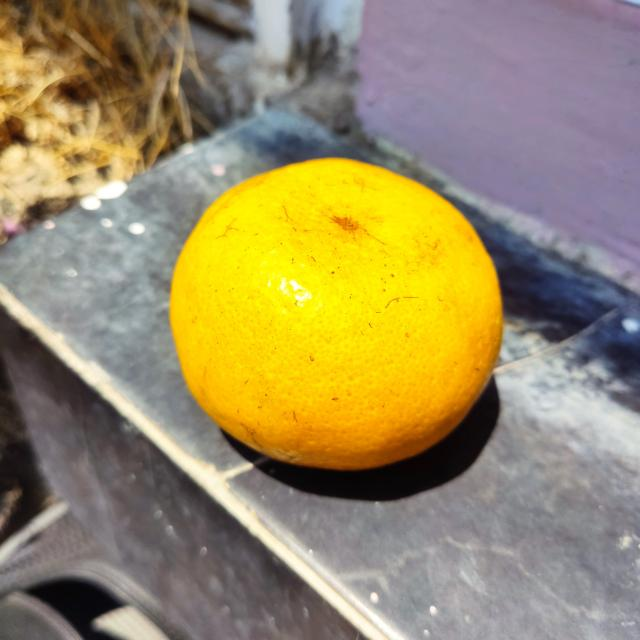orange: (166, 154, 504, 473)
